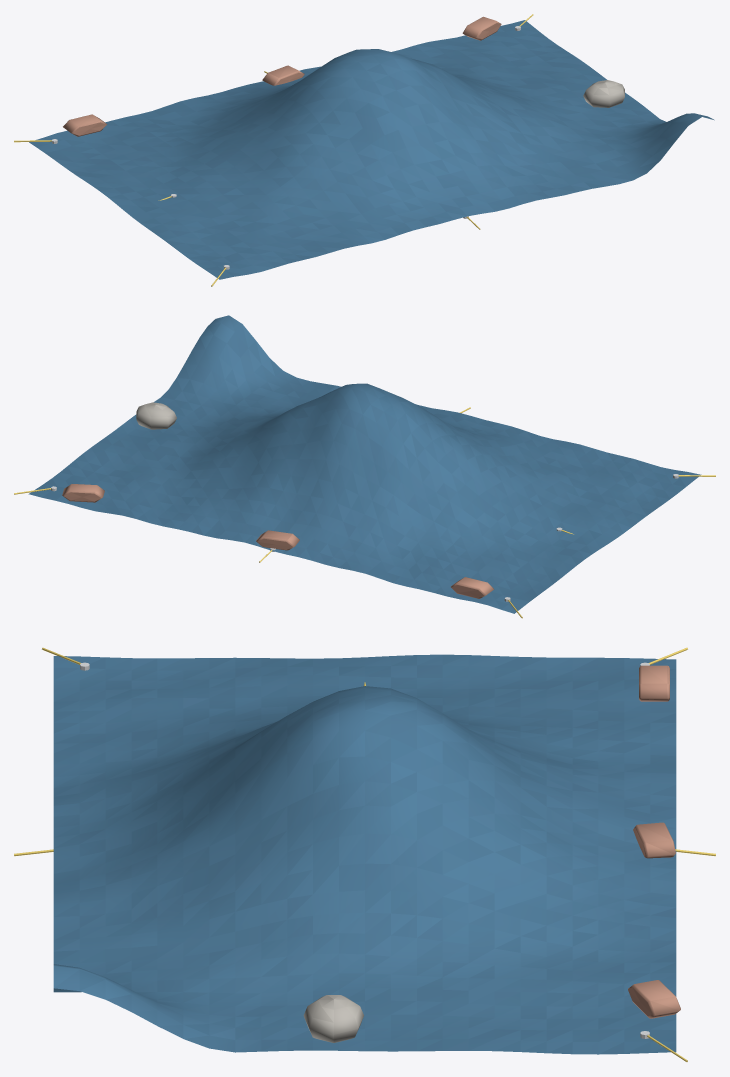
The model's file is storm_tarp_a.glb.
3 renders of one model, top to bottom at view 1: azimuth 30°, elevation 25°; view 2: azimuth 150°, elevation 25°; view 3: azimuth 270°, elevation 25°, orthographic. The views are drawn at different scales.
Visible parts, largest first — view 1: body; view 2: body; view 3: body.
Part boxes in pixels (x1=…): body: x1=14, y1=14, x2=714, y2=286; body: x1=14, y1=315, x2=715, y2=618; body: x1=14, y1=647, x2=715, y2=1061.
Bounding box in the file's own units: 3.14 × 0.573 × 2.26.
